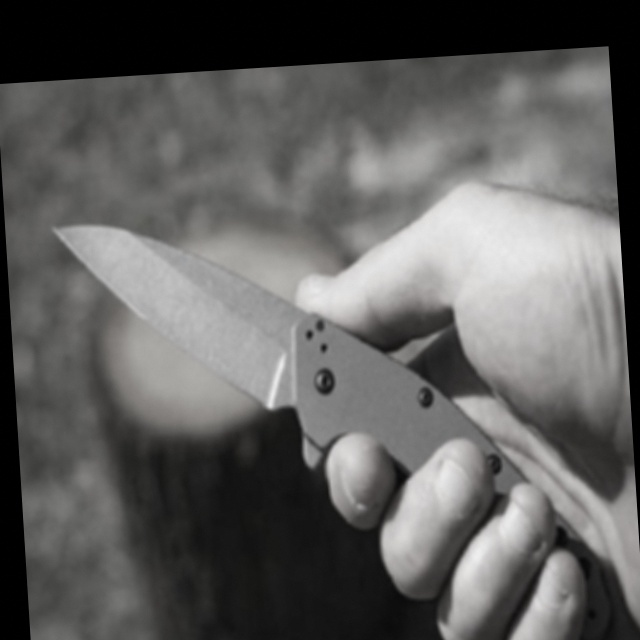Sharp-Object: (54, 193, 615, 640)
